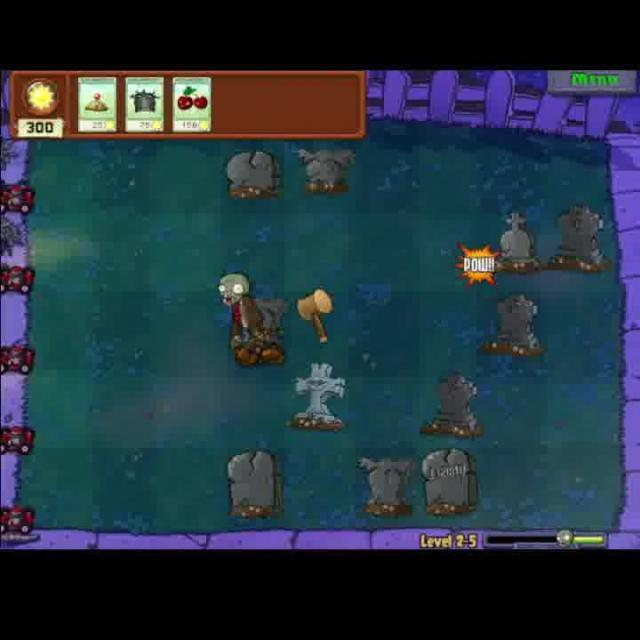zombies: (212, 269, 276, 369)
